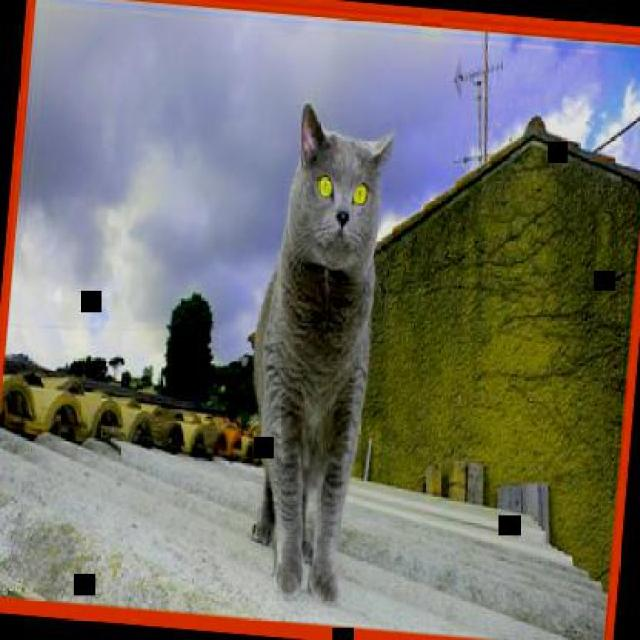cat: (232, 100, 397, 606)
